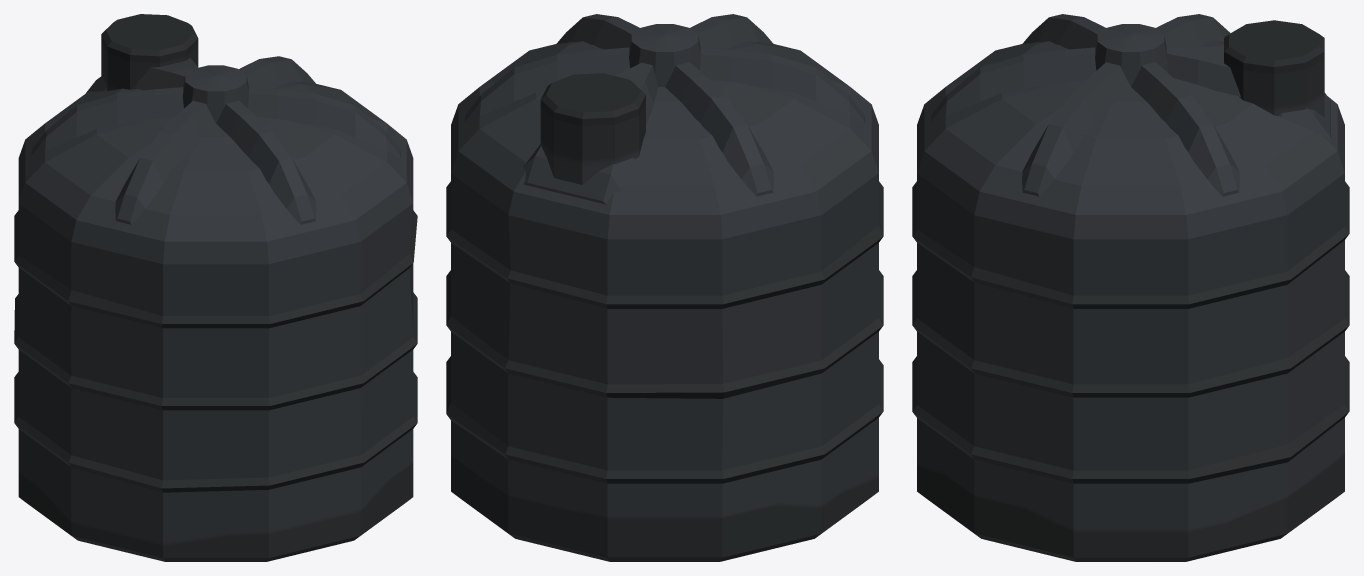
The model's file is SM_Prop_WaterTank_04.glb.
3 views of the same model, side by side, from view 1: azimuth 30°, elevation 25°; view 2: azimuth 150°, elevation 25°; view 3: azimuth 270°, elevation 25° (orthographic). The views are drawn at different scales.
Parts seen in each view (by area): view 1: SM_Prop_WaterTank_04; view 2: SM_Prop_WaterTank_04; view 3: SM_Prop_WaterTank_04.
Boxes of the visible parts, x1,y1,x2,y2 form: SM_Prop_WaterTank_04: [14, 14, 417, 561]; SM_Prop_WaterTank_04: [446, 14, 883, 561]; SM_Prop_WaterTank_04: [912, 14, 1349, 561].
Bounding box in the file's own units: 1.94 × 2.16 × 1.94.
1 material, 1 textured.
